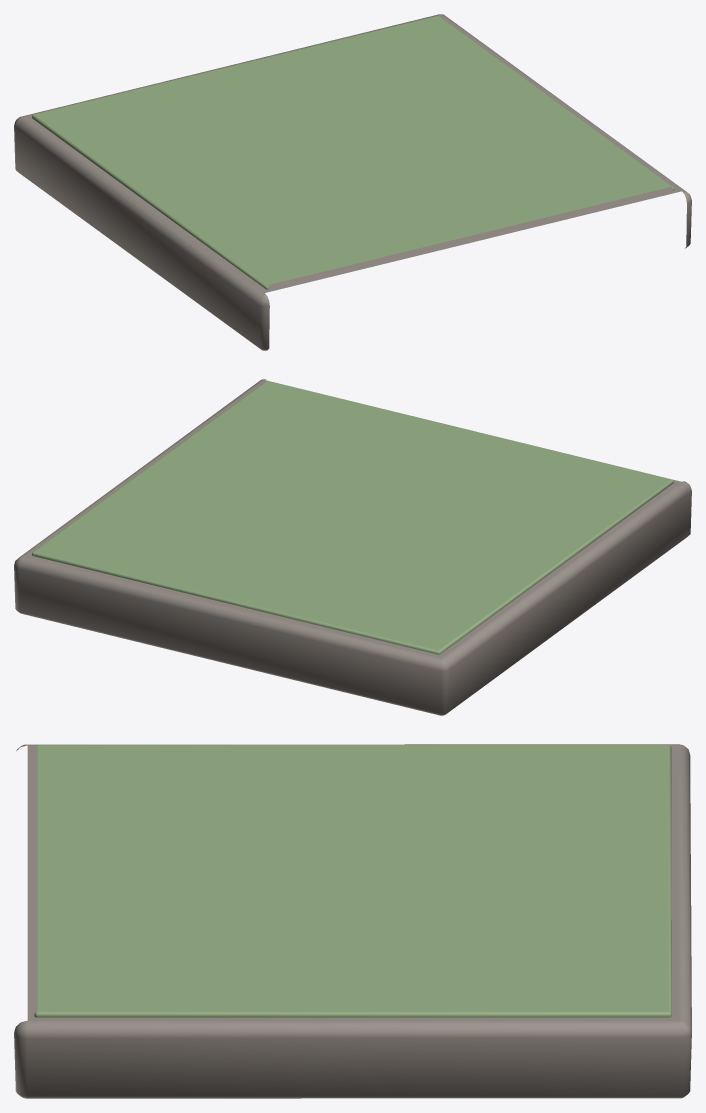
Rendered from platform.glb.
The picture shows the model from 3 angles, top to bottom: view 1: azimuth 30°, elevation 25°; view 2: azimuth 150°, elevation 25°; view 3: azimuth 270°, elevation 25°; orthographic projection. The views are drawn at different scales.
Visible parts, largest first — view 1: platform; view 2: platform; view 3: platform.
Part boxes in pixels (bbox=[...]): platform: bbox=[14, 14, 691, 350]; platform: bbox=[14, 379, 691, 715]; platform: bbox=[14, 744, 691, 1098].
Size of the model in its own units: 4 by 0.53 by 4.
